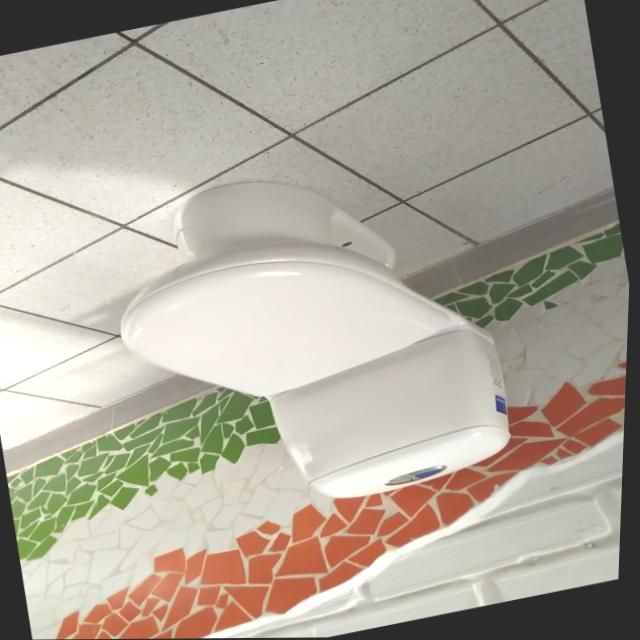toilet: (91, 137, 532, 540)
